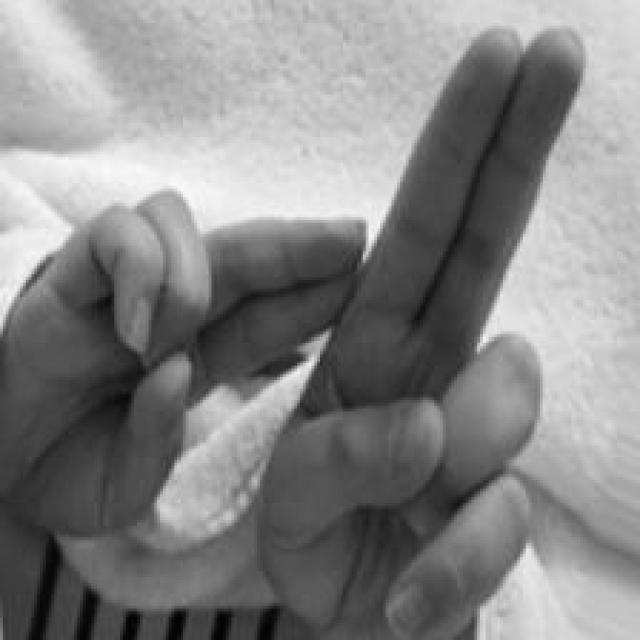K: (0, 22, 587, 635)
